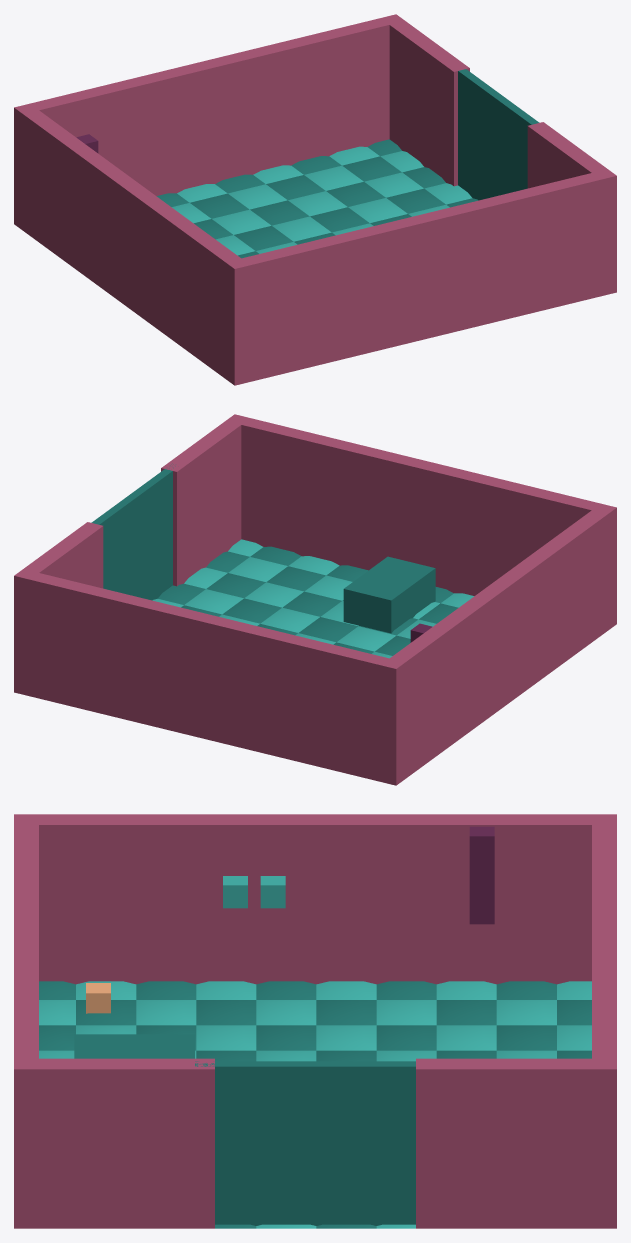
Rendered from TestRoomBase 1.fbx.
3 views of the same model, one above another, from view 1: azimuth 30°, elevation 25°; view 2: azimuth 150°, elevation 25°; view 3: azimuth 270°, elevation 25° (orthographic). The views are drawn at different scales.
Visible parts, largest first — view 1: pCube13, pCube3, pCube6, pCube8; view 2: pCube13, pCube3, pCube6, pCube8; view 3: pCube13, pCube6, pCube8, pCube3.
Part boxes in pixels (x1,y1,x2,y2): pCube13: [14, 107, 616, 385]; pCube3: [14, 14, 404, 230]; pCube6: [381, 14, 616, 296]; pCube8: [458, 69, 539, 200]; pCube13: [152, 414, 616, 784]; pCube3: [14, 569, 405, 785]; pCube6: [14, 414, 250, 696]; pCube8: [91, 463, 175, 600]; pCube13: [14, 814, 616, 1228]; pCube6: [14, 1058, 616, 1228]; pCube8: [195, 1061, 415, 1225]; pCube3: [592, 814, 616, 1228].
Size of the model in its own units: 24 by 7 by 24.
